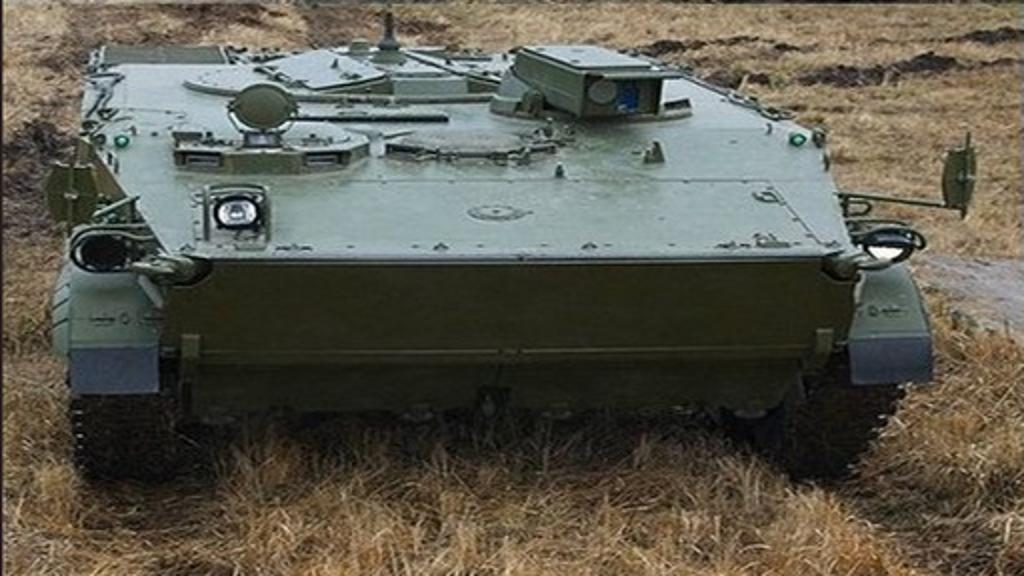APC-IFV: (38, 26, 946, 510)
